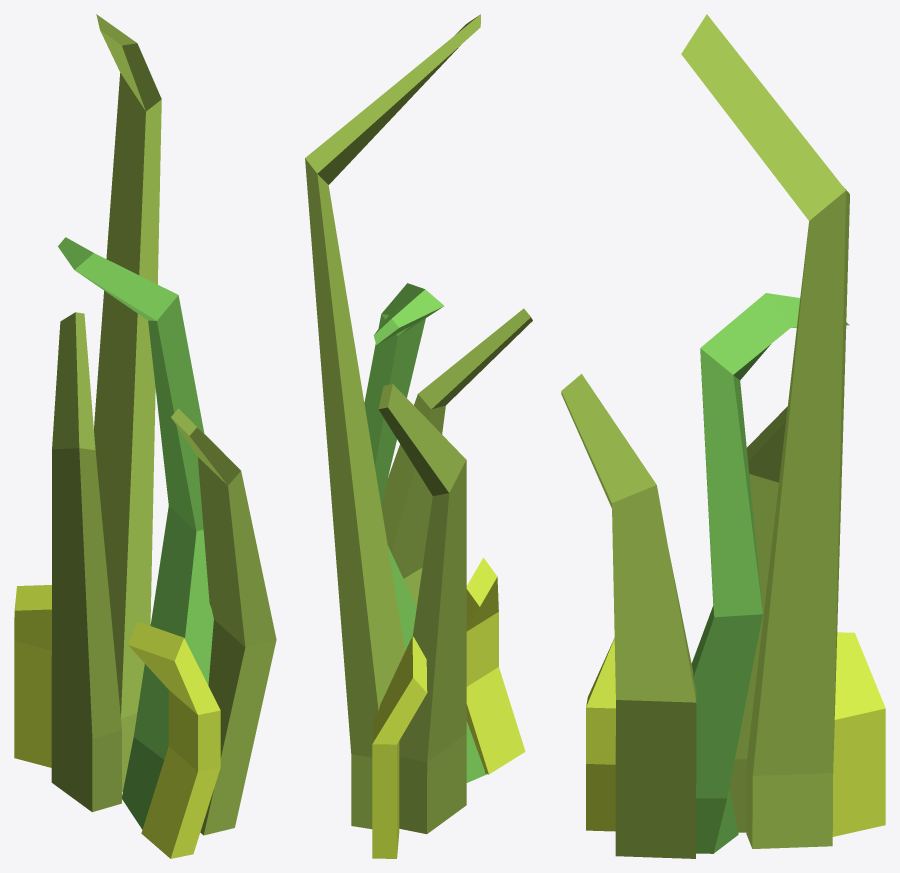
Rendered from Grama 3.fbx.
The picture shows the model from 3 angles, left to right: view 1: azimuth 30°, elevation 25°; view 2: azimuth 150°, elevation 25°; view 3: azimuth 270°, elevation 25°; orthographic projection. The views are drawn at different scales.
Visible parts, largest first — view 1: Graminha 6, Graminha 1, Graminha 3, Graminha 7, Graminha 4, Graminha 2; view 2: Graminha 6, Graminha 1, Graminha 7, Graminha 3, Graminha 4, Graminha 2; view 3: Graminha 6, Graminha 7, Graminha 3, Graminha 2, Graminha 1, Graminha 4.
Part boxes in pixels (box(x1,y1,x2,y2)): Graminha 6: box(94, 14, 161, 791); Graminha 1: box(51, 312, 121, 812); Graminha 3: box(58, 237, 213, 829); Graminha 7: box(171, 408, 276, 835); Graminha 4: box(128, 621, 220, 858); Graminha 2: box(14, 585, 51, 767); Graminha 6: box(305, 14, 480, 829); Graminha 1: box(378, 384, 466, 834); Graminha 7: box(381, 308, 532, 606); Graminha 3: box(364, 283, 486, 782); Graminha 4: box(466, 557, 525, 774); Graminha 2: box(372, 636, 427, 858); Graminha 6: box(681, 14, 849, 848); Graminha 7: box(561, 374, 696, 858); Graminha 3: box(691, 293, 849, 853); Graminha 2: box(832, 632, 885, 836); Graminha 1: box(729, 406, 787, 832); Graminha 4: box(586, 638, 615, 831).
Bounding box in the file's own units: 339 × 1702 × 625.
